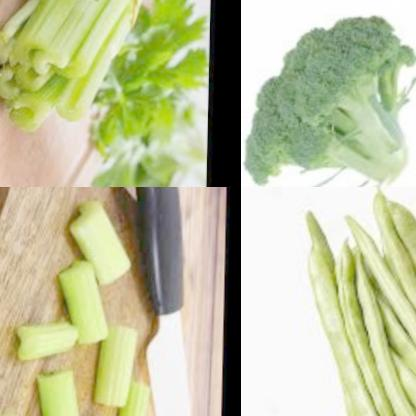beans: (284, 187, 416, 416)
broccoli: (241, 0, 416, 187)
celery: (0, 0, 162, 143), (67, 197, 135, 286), (56, 257, 113, 352), (91, 321, 141, 414), (14, 316, 82, 362), (31, 364, 86, 416), (112, 376, 152, 416)
